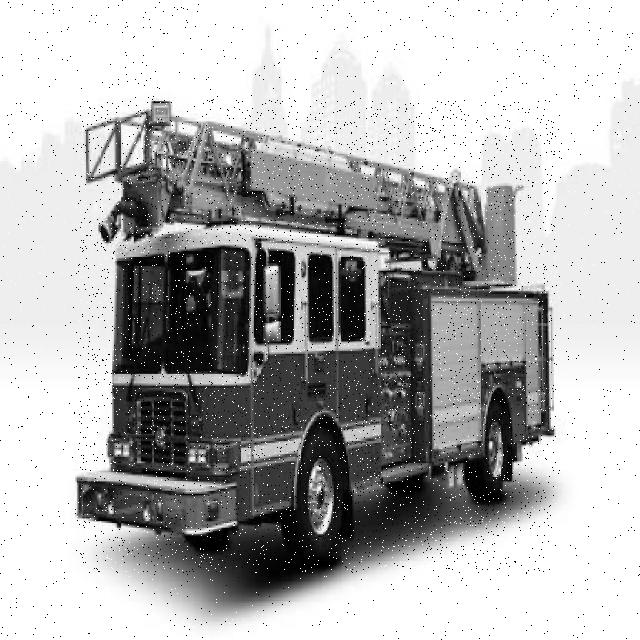Fire Truck: (76, 100, 556, 573)
